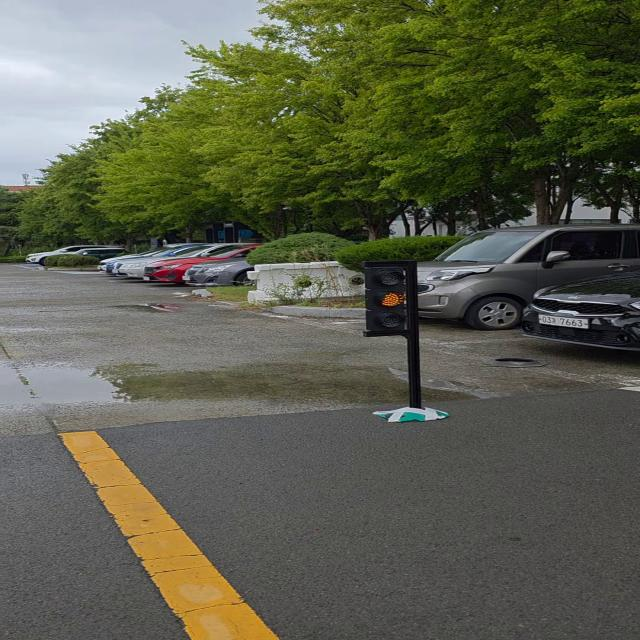yellow: (364, 262, 418, 336)
